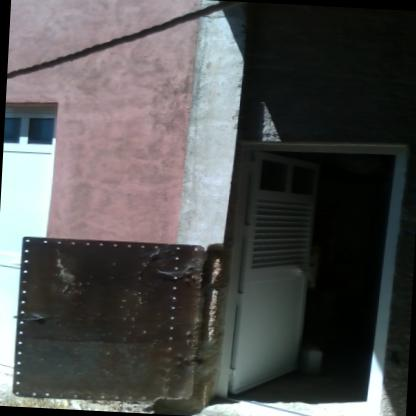semi: (218, 132, 412, 415)
